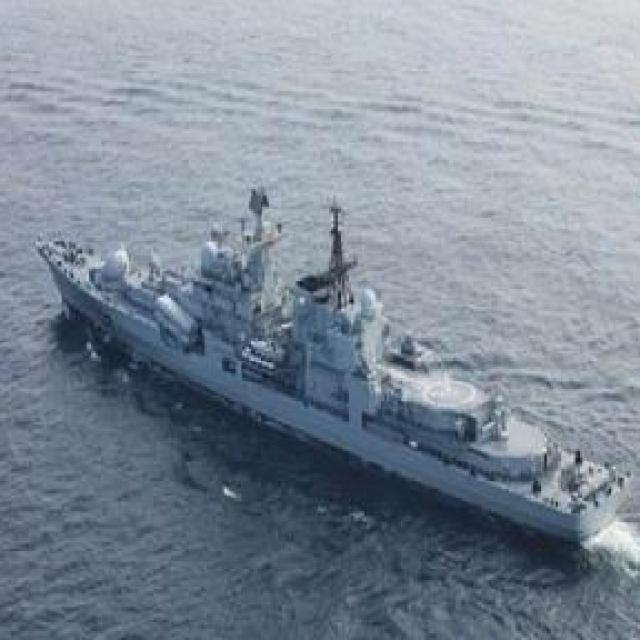navalvessels: (41, 188, 628, 542)
